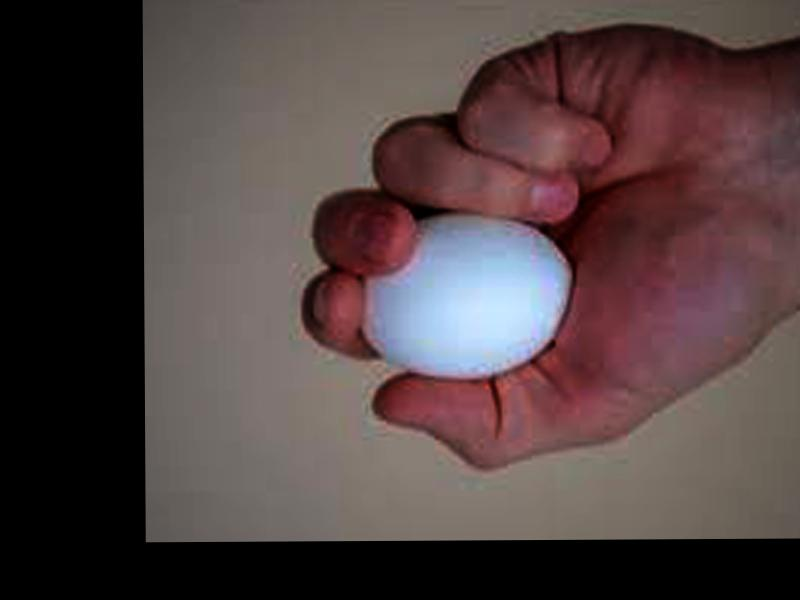Eggs: (361, 214, 577, 379)
